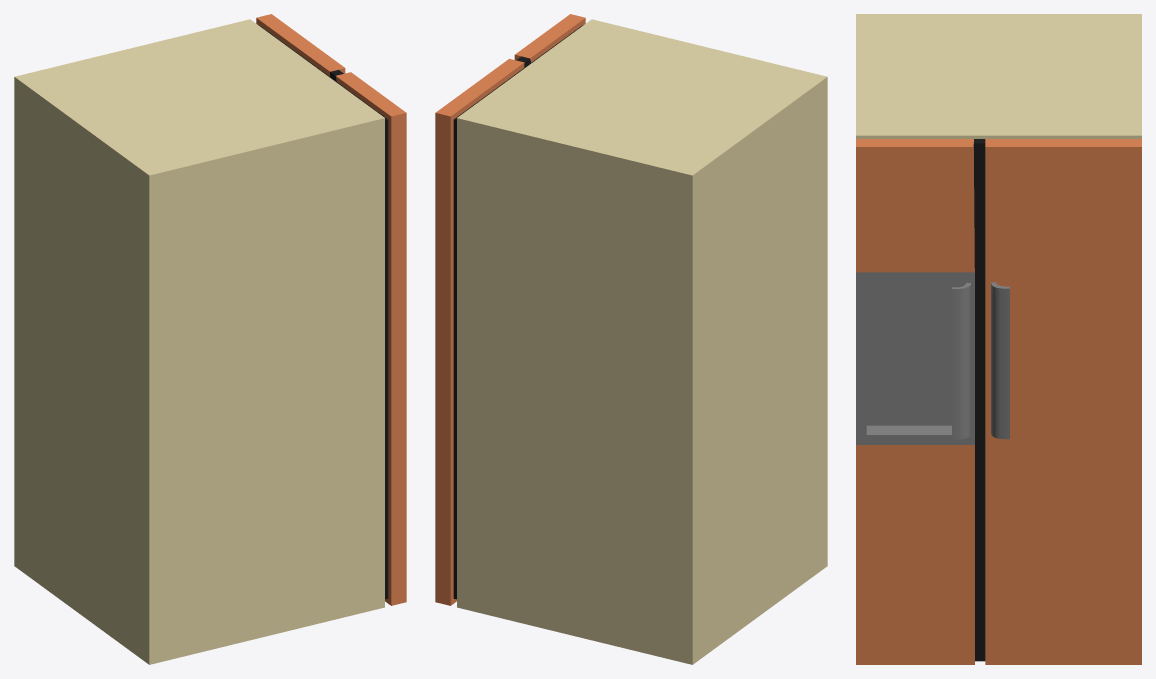
File: SM_Fridge_02.fbx
3 views of the same model, side by side, from view 1: azimuth 30°, elevation 25°; view 2: azimuth 150°, elevation 25°; view 3: azimuth 270°, elevation 25° (orthographic). The views are drawn at different scales.
Visible parts, largest first — view 1: SM_Fridge_02; view 2: SM_Fridge_02; view 3: SM_Fridge_02.
Part boxes in pixels (<box>): SM_Fridge_02: <box>14,14,406,664</box>; SM_Fridge_02: <box>435,14,827,664</box>; SM_Fridge_02: <box>856,14,1141,664</box>.
Bounding box in the file's own units: 1.15 × 1 × 2.
